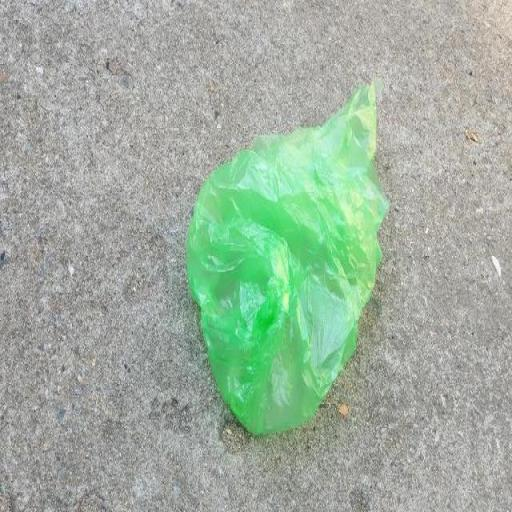plastic-bag: (184, 76, 394, 441)
